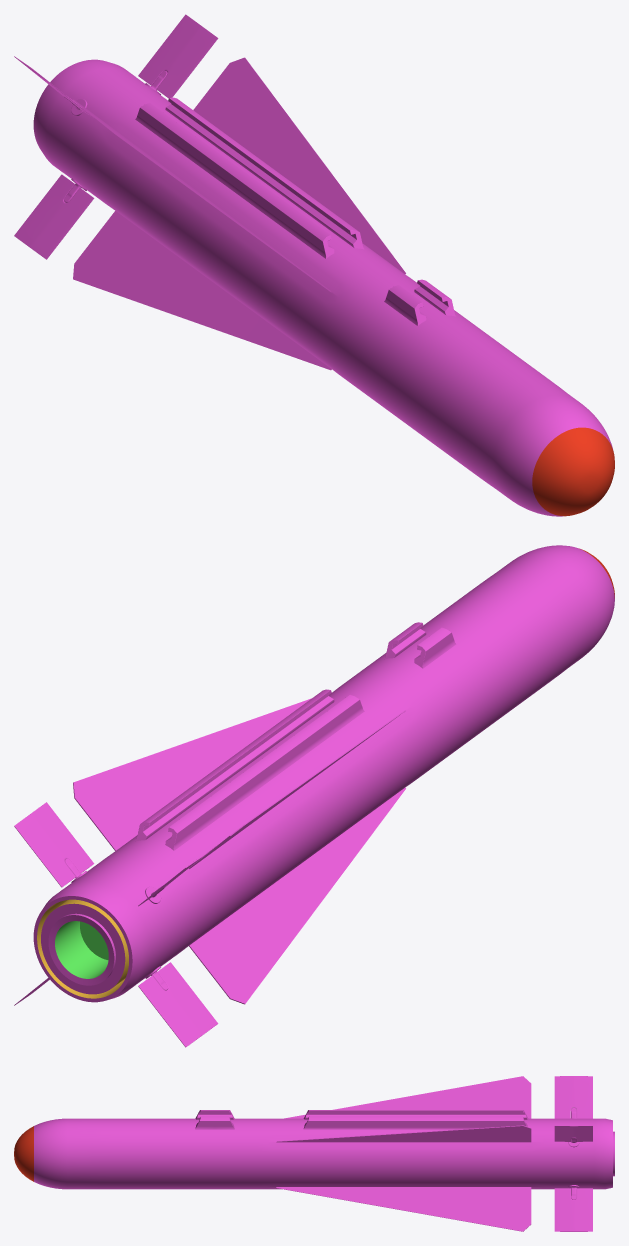
Rendered from AGM-65.fbx.
The picture shows the model from 3 angles, top to bottom: view 1: azimuth 30°, elevation 25°; view 2: azimuth 150°, elevation 25°; view 3: azimuth 270°, elevation 25°; orthographic projection. The views are drawn at different scales.
Visible parts, largest first — view 1: Body, Rear Hanger, Rear Wings, Front Hanger; view 2: Body, Rear Hanger, Rear Wings, Front Hanger; view 3: Body, Rear Hanger, Rear Wings, Front Hanger, Rear Wing Holder.
Part boxes in pixels (x1,y1,x2,y2): Body: (33,57,614,516); Rear Hanger: (135,97,364,258); Rear Wings: (14,14,218,259); Front Hanger: (384,279,455,325); Body: (33,545,614,1004); Rear Hanger: (135,689,364,850); Rear Wings: (14,802,218,1047); Front Hanger: (384,622,456,668); Body: (14,1076,614,1231); Rear Hanger: (303,1110,528,1129); Rear Wings: (554,1076,592,1231); Front Hanger: (195,1110,234,1129); Rear Wing Holder: (568,1108,579,1199).
Bounding box in the file's own units: 1678 × 329 × 329.
